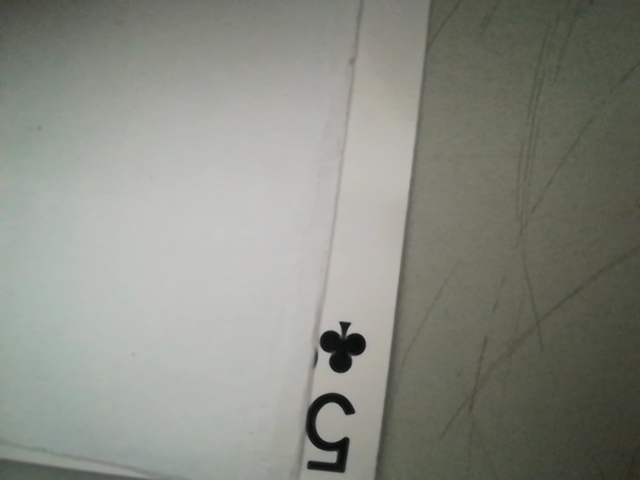mh 5: (293, 315, 380, 475)
